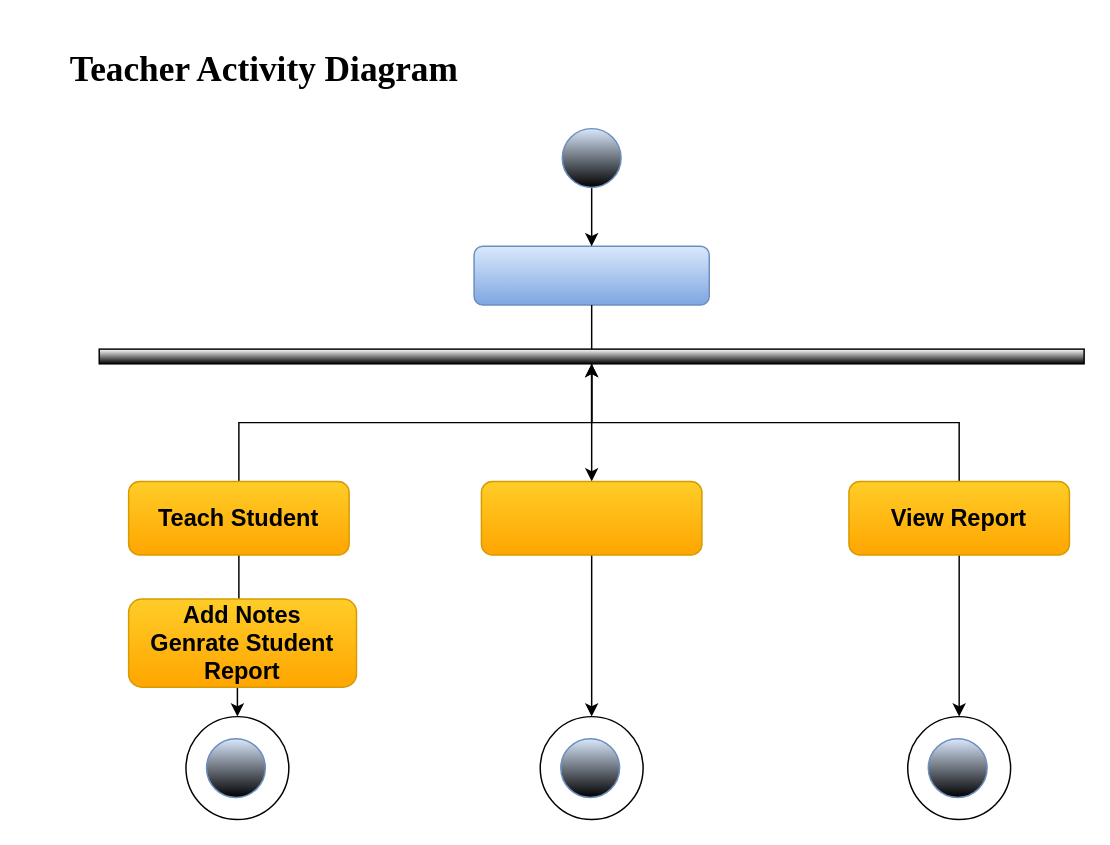
Some shapes in this 1110 by 845 pixel diagram are drawn without their labels. The box of each missing label's shape, as (x1, y1, x2, y2) in pixels:
Assign A Notes & Assignment: (480, 480, 702, 555)
Login: (473, 245, 709, 305)
